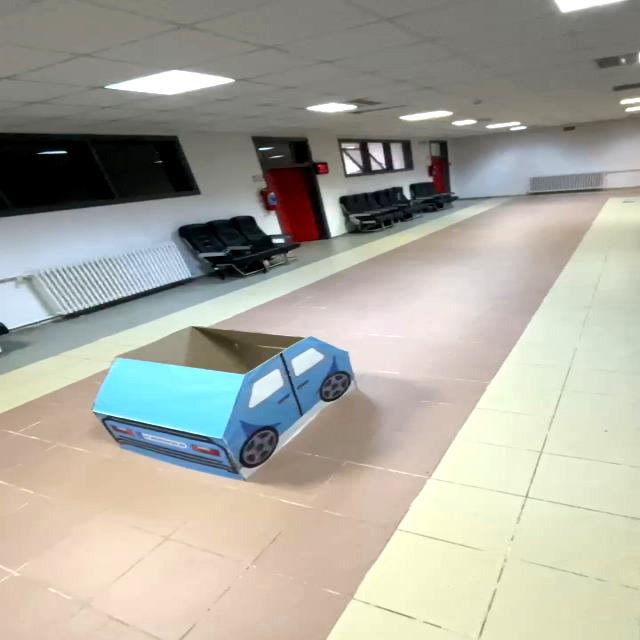blue_car: (78, 322, 391, 482)
